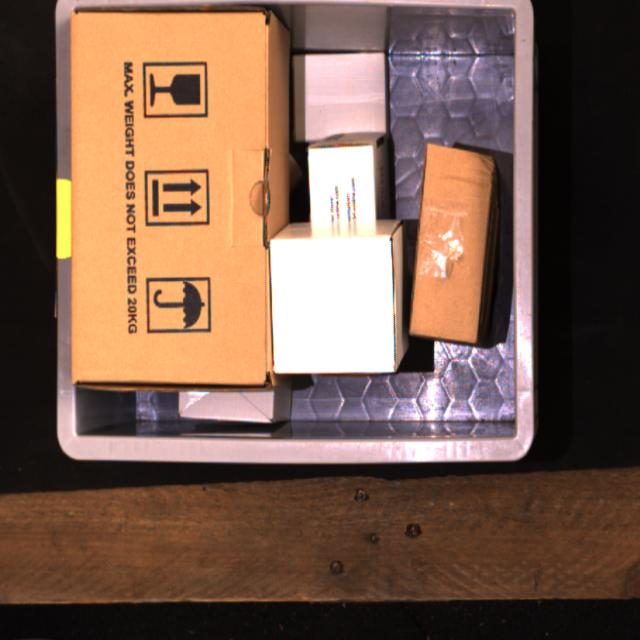Cardboard Box: (71, 8, 288, 387), (270, 221, 407, 372), (410, 145, 497, 344), (294, 53, 386, 142), (308, 139, 384, 236), (178, 378, 291, 423)
